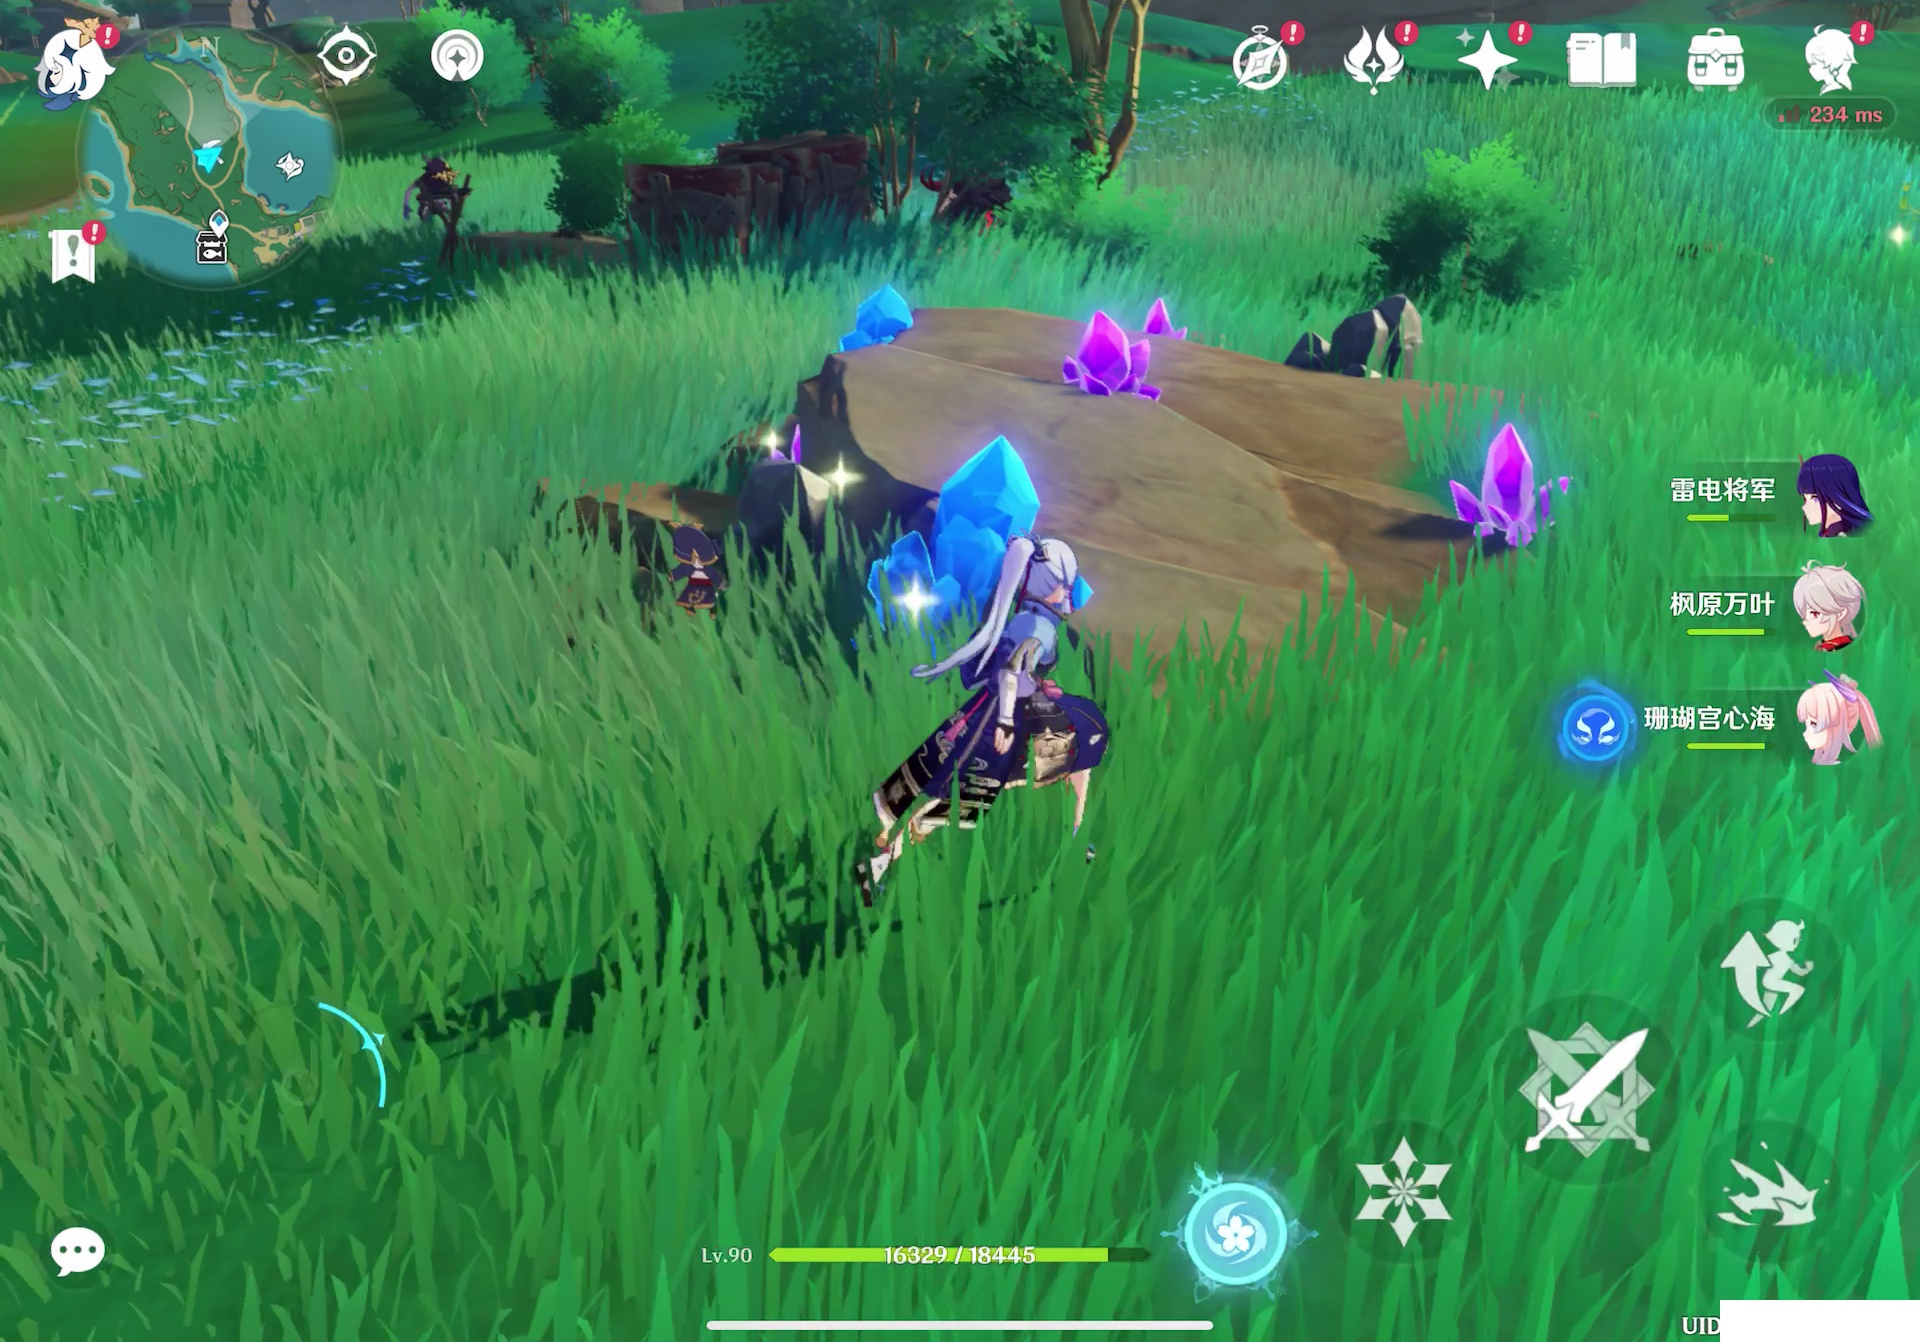丘丘人: (398, 152, 462, 242)
白铁矿石: (721, 424, 856, 589), (1290, 286, 1453, 400)
神里绫龟: (929, 546, 1135, 922)
紫矿石: (1061, 280, 1199, 406), (1460, 422, 1598, 543)
蓝矿石: (859, 422, 1132, 649), (829, 270, 912, 353)
